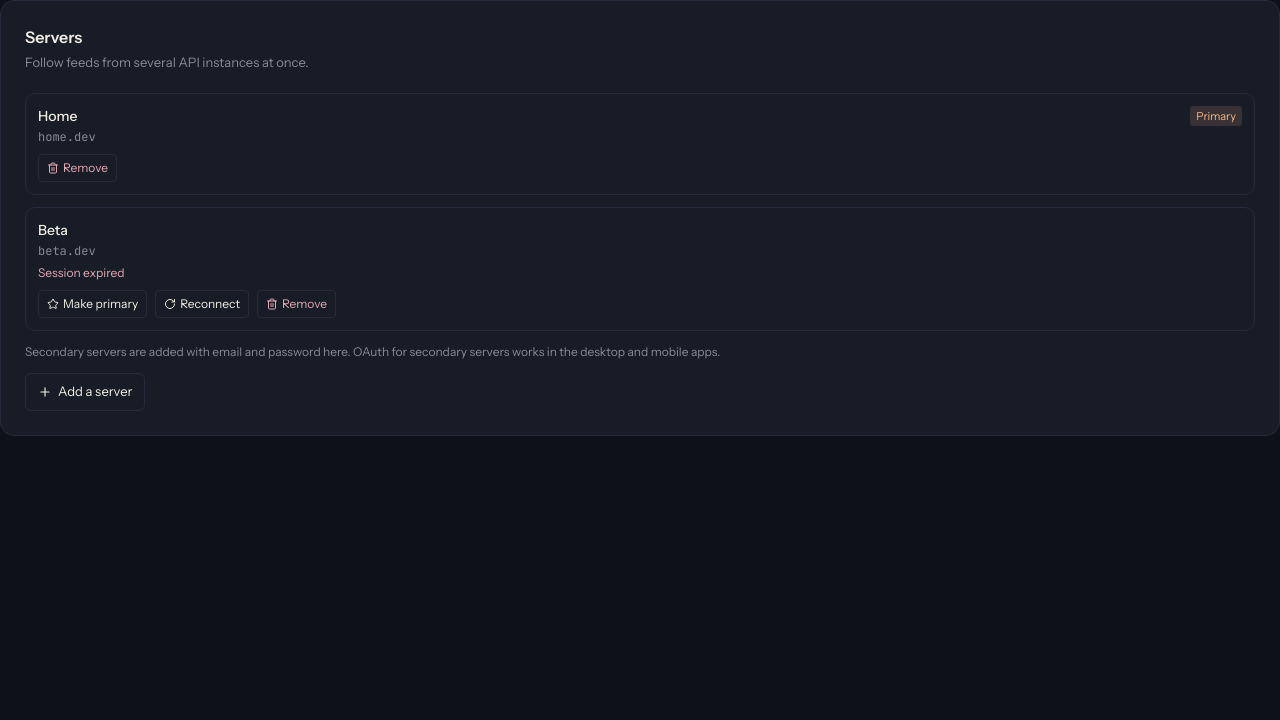
Scenario: InstancesCard › closes the add form from its cancel link
The width and height of the screenshot is (1280, 720).
Click the button "Add a server". click: (85, 392)
box: [25,373,146,410]
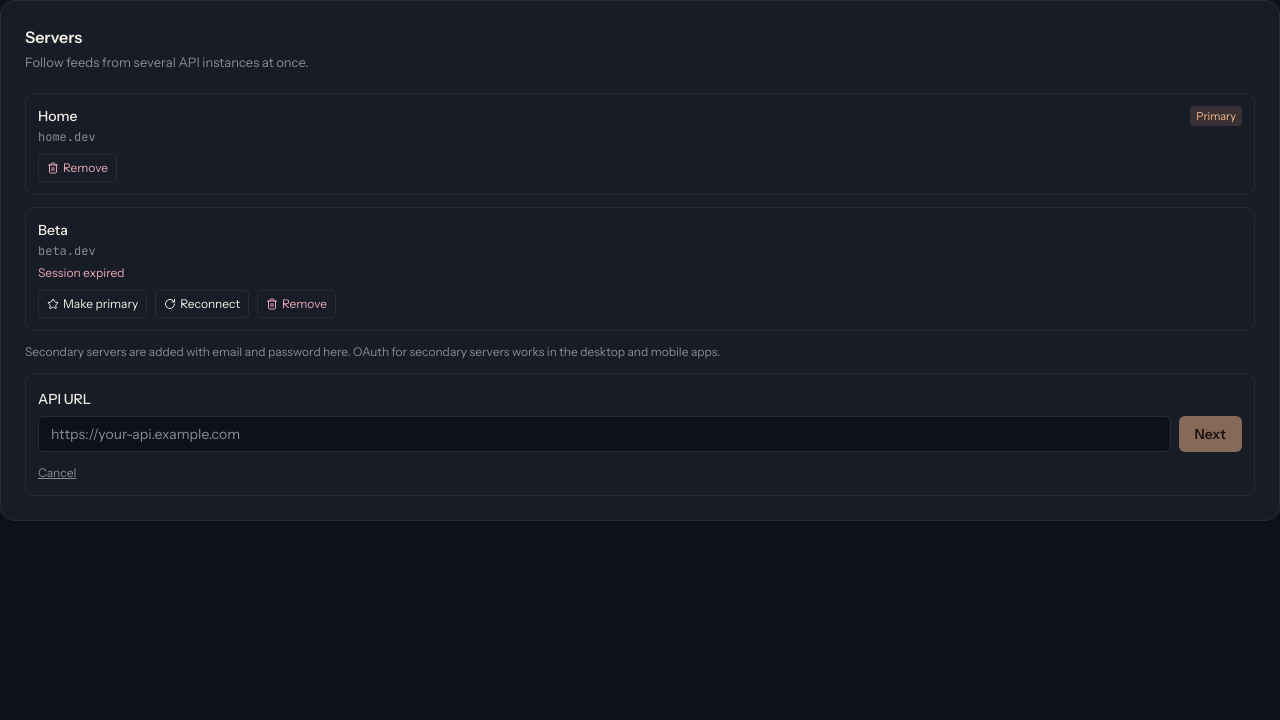
Click the button "Cancel". click: (57, 473)
box: [38,464,76,482]
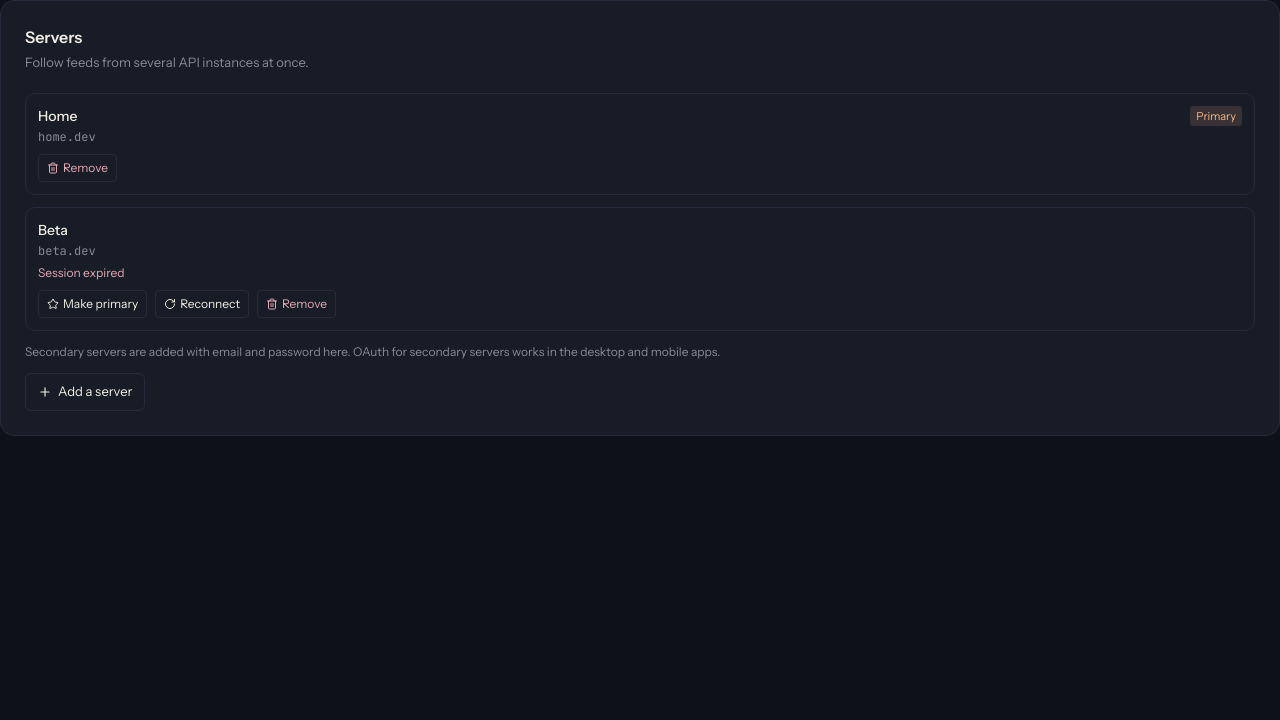
Now the label labelled "API URL" is gone
